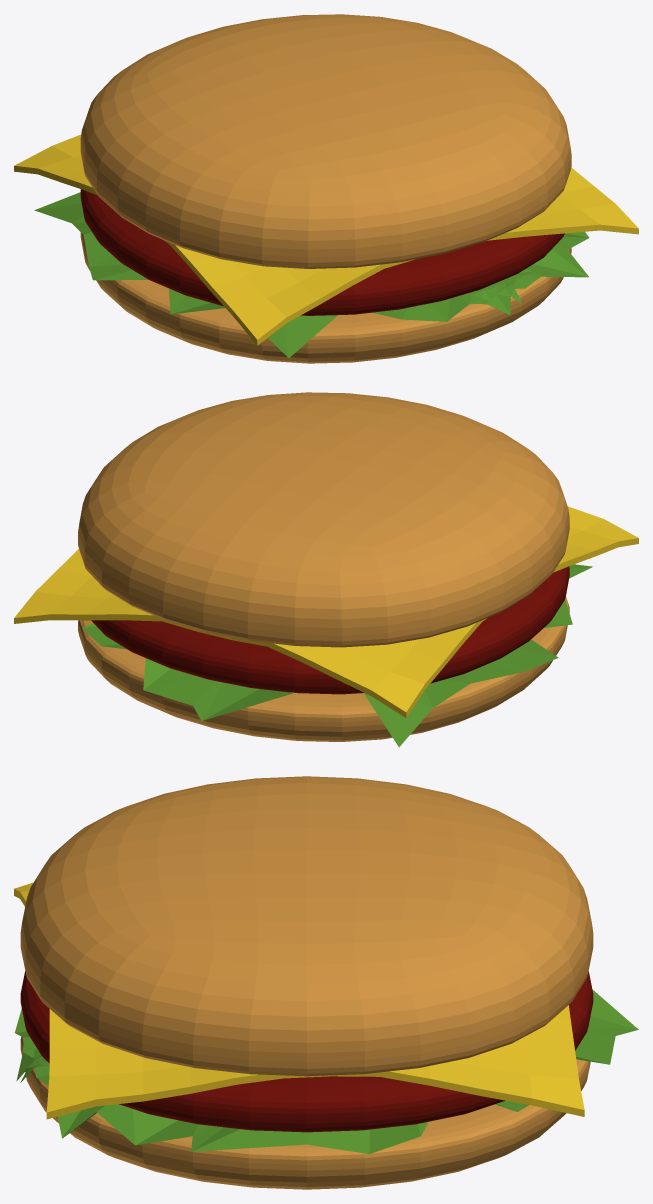
The model's file is burger.glb.
3 renders of one model, top to bottom at view 1: azimuth 30°, elevation 25°; view 2: azimuth 150°, elevation 25°; view 3: azimuth 270°, elevation 25°, orthographic. The views are drawn at different scales.
Visible parts, largest first — view 1: bread2, chees, bread3, meet, green; view 2: bread2, chees, meet, bread3, green; view 3: bread2, bread3, chees, meet, green.
Boxes of the visible parts, box(x1,y1,x2,y2) form: bread2: box(80, 14, 571, 268); chees: box(14, 134, 638, 345); bread3: box(80, 232, 571, 363); meet: box(80, 189, 564, 315); green: box(34, 192, 589, 357); bread2: box(78, 392, 569, 647); chees: box(14, 506, 638, 717); meet: box(91, 566, 569, 694); bread3: box(78, 597, 569, 741); green: box(82, 564, 592, 747); bread2: box(20, 776, 593, 1076); bread3: box(20, 1037, 590, 1189); chees: box(14, 882, 584, 1119); meet: box(20, 971, 593, 1132); green: box(14, 989, 638, 1154).
Size of the model in its own units: 5.93 by 2.66 by 5.87.
